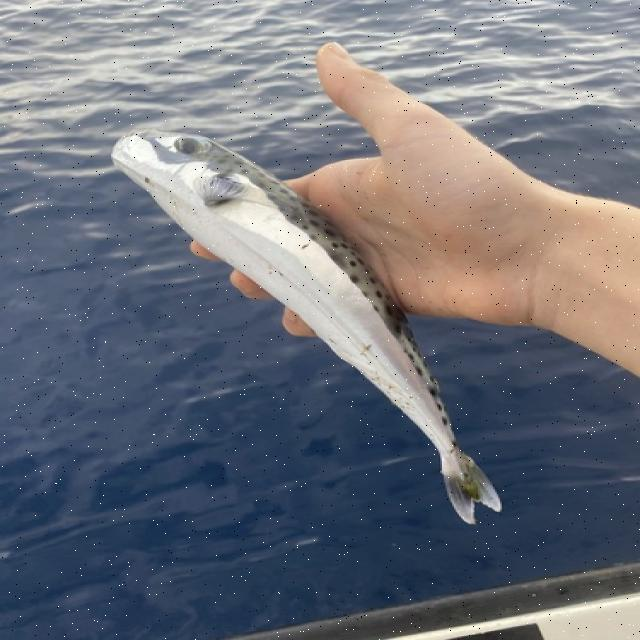Balik: (113, 130, 501, 523)
